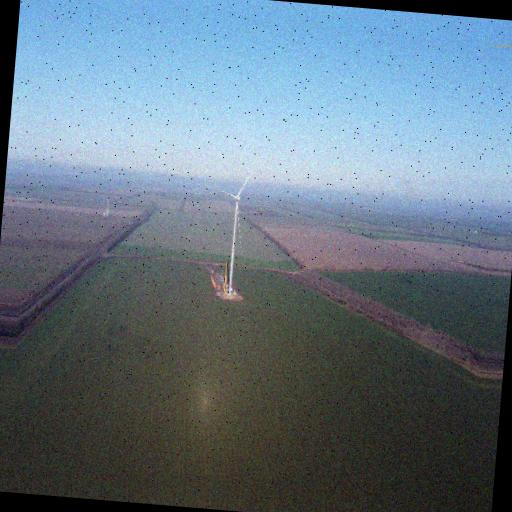wind turbine: (213, 174, 254, 295)
